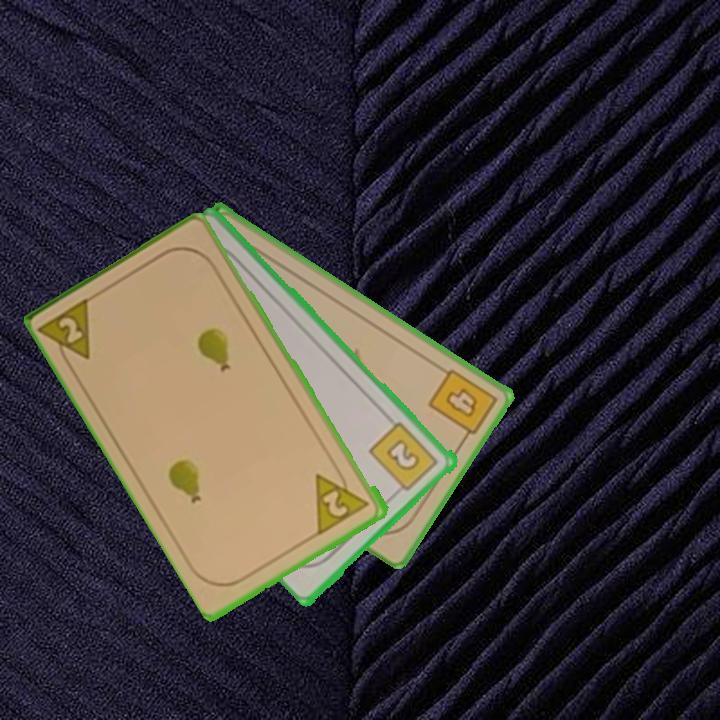2b: (366, 418, 442, 499)
2p: (311, 462, 375, 537), (37, 293, 96, 374)
4b: (424, 365, 501, 445)
